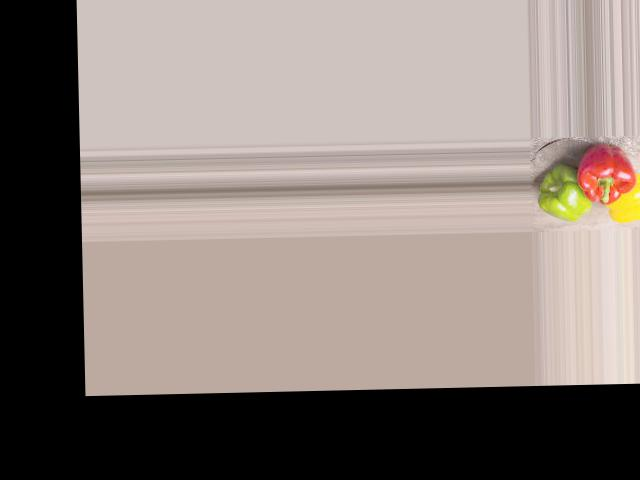bell_pepper: (607, 172, 640, 225)
